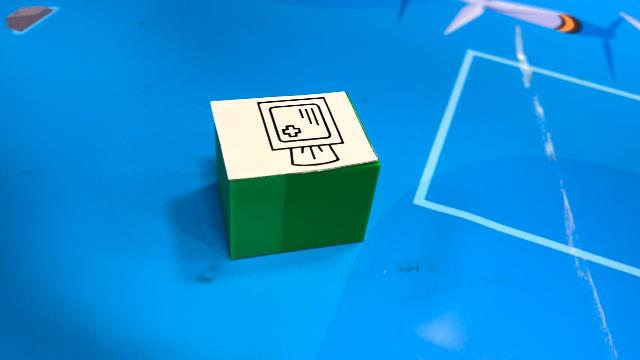napkin: (208, 90, 382, 260)
